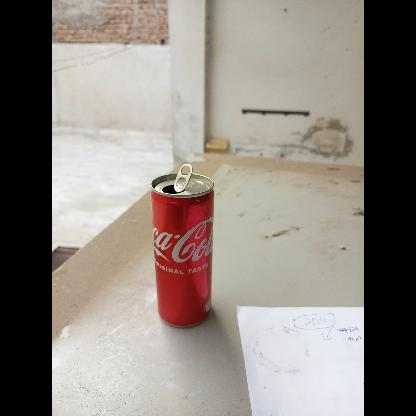Lid_Open: (158, 152, 194, 198)
Tin_Can: (152, 156, 216, 330)
